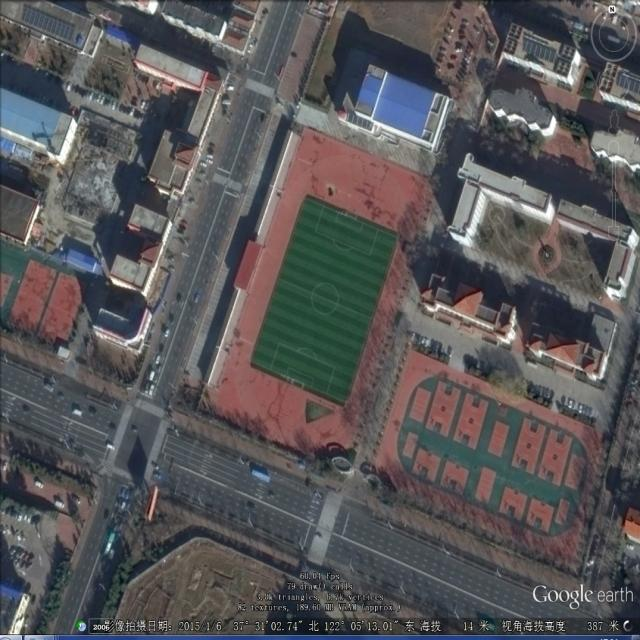playground: (229, 155, 423, 457)
